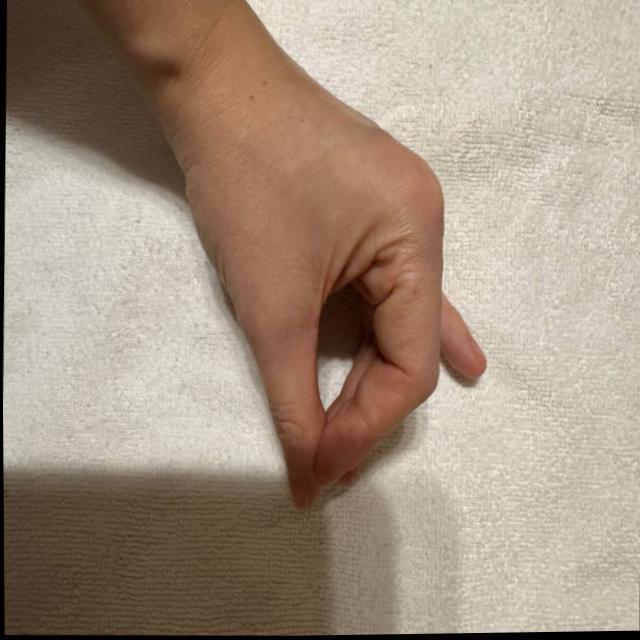iu: (129, 75, 496, 541)
